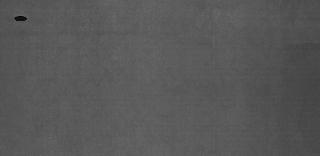punching hole: (12, 15, 28, 21)
